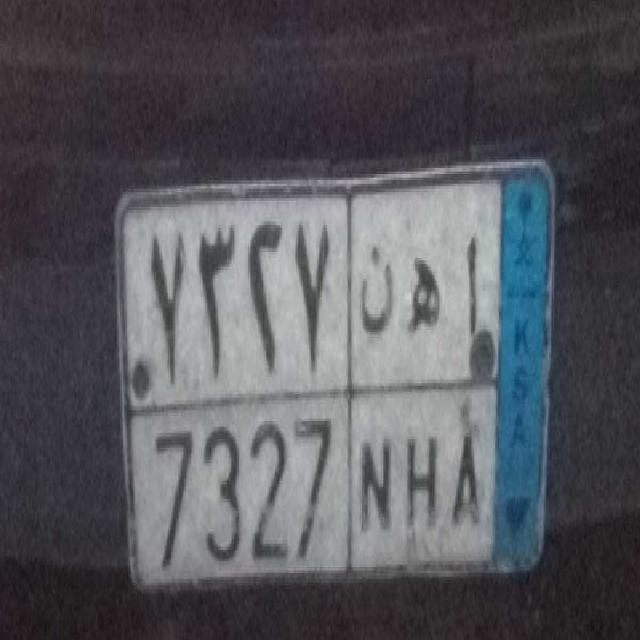license_plate: (123, 379, 494, 602)
